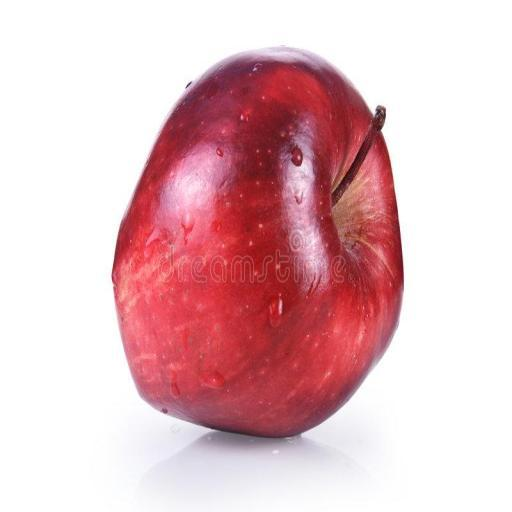apple: (113, 47, 403, 436)
